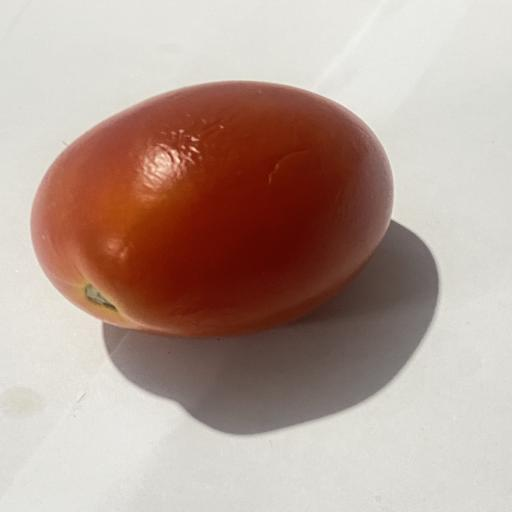overipe: (31, 81, 393, 337)
